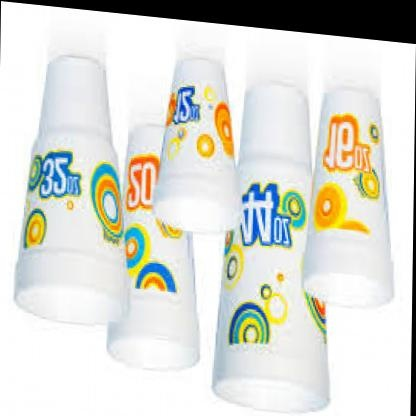trash: (213, 83, 326, 410), (15, 56, 122, 323), (107, 125, 198, 367), (305, 89, 392, 305), (155, 60, 238, 231)
